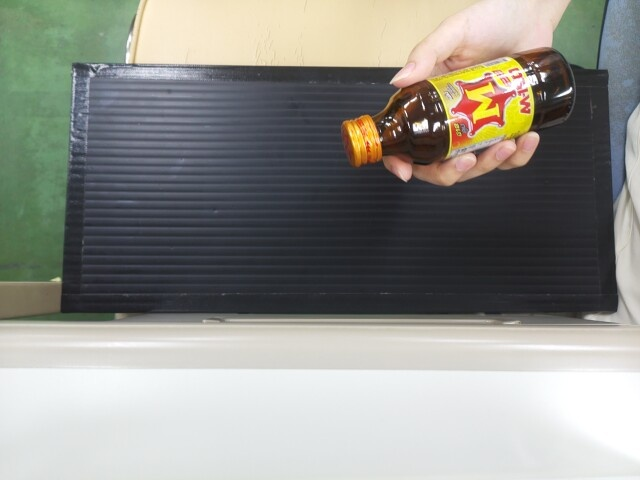glass_bottle: (341, 57, 572, 168)
